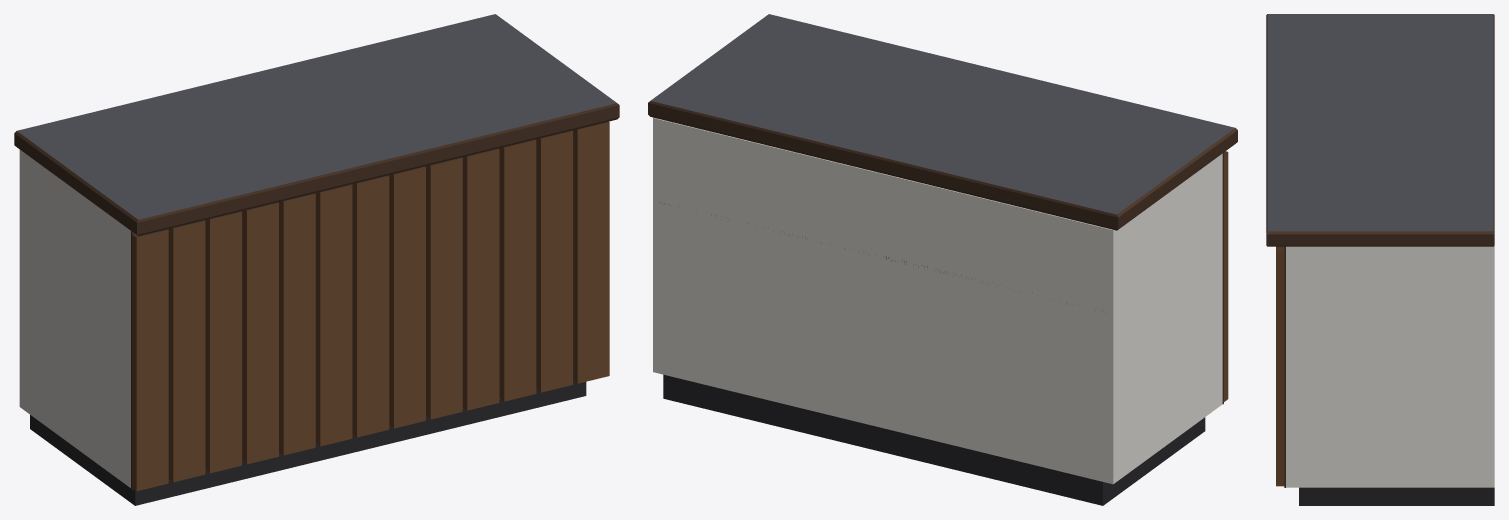
The model's file is FN_Desk_Reception.glb.
3 renders of one model, left to right at view 1: azimuth 30°, elevation 25°; view 2: azimuth 150°, elevation 25°; view 3: azimuth 270°, elevation 25°, orthographic. The views are drawn at different scales.
Parts seen in each view (by area): view 1: FN_Desk_Reception; view 2: FN_Desk_Reception; view 3: FN_Desk_Reception.
Boxes of the visible parts, x1,y1,x2,y2 form: FN_Desk_Reception: (14,14,619,505); FN_Desk_Reception: (648,14,1237,505); FN_Desk_Reception: (1266,14,1494,505).
Size of the model in its own units: 1.84 by 1.1 by 0.81.
1 material, 1 textured.
